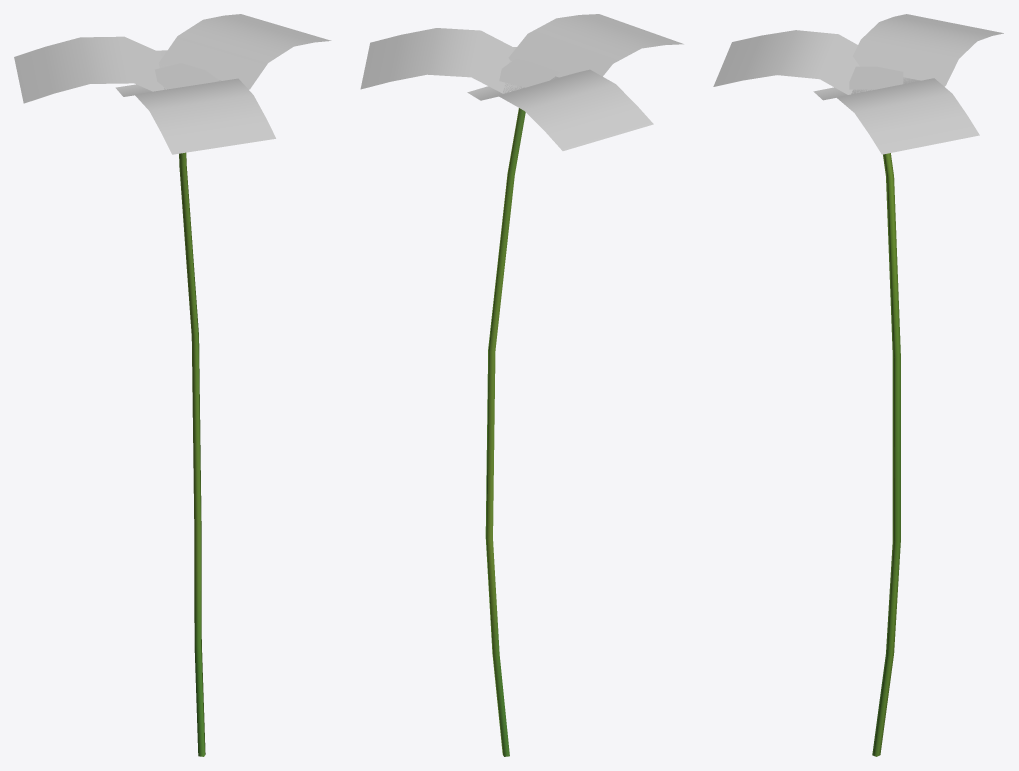
The model's file is SM_flower_17.fbx.
3 views of the same model, side by side, from view 1: azimuth 30°, elevation 25°; view 2: azimuth 150°, elevation 25°; view 3: azimuth 270°, elevation 25° (orthographic). The views are drawn at different scales.
Parts seen in each view (by area): view 1: SM_flower_17; view 2: SM_flower_17; view 3: SM_flower_17.
Boxes of the visible parts, <box> form: SM_flower_17: <box>14,14,331,756</box>; SM_flower_17: <box>360,14,683,756</box>; SM_flower_17: <box>713,14,1003,756</box>.
Size of the model in its own units: 31.51 by 71.03 by 27.58.
